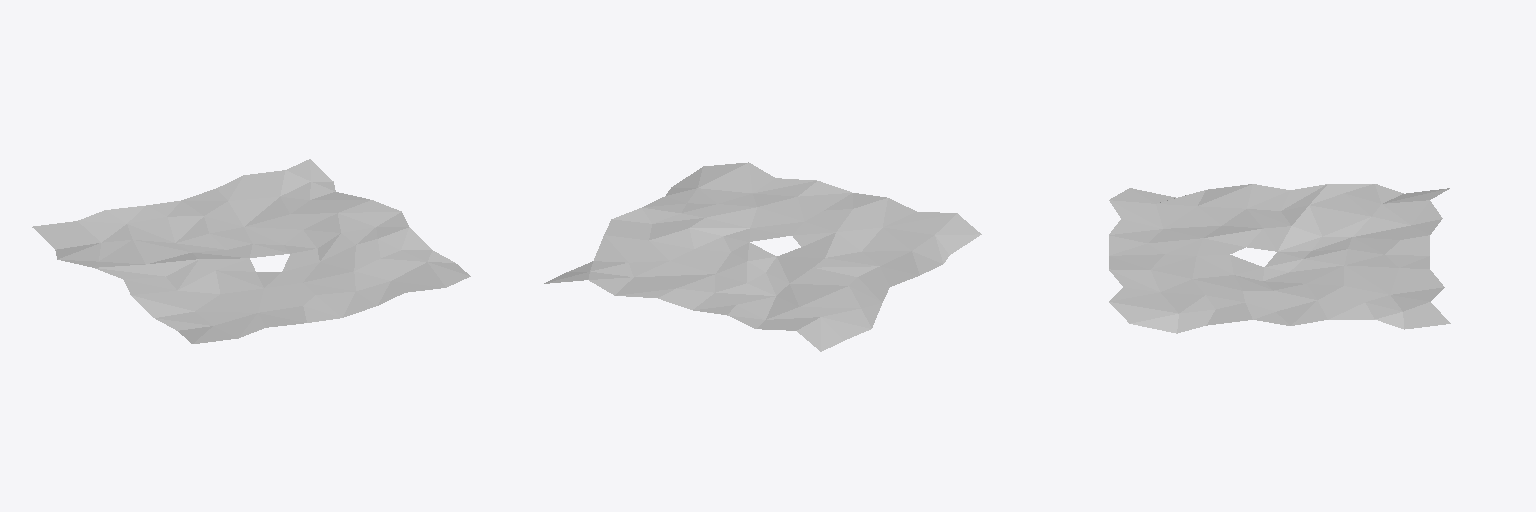
File: Sandtileimposter.obj
The picture shows the model from 3 angles: view 1: azimuth 30°, elevation 25°; view 2: azimuth 150°, elevation 25°; view 3: azimuth 270°, elevation 25°; orthographic projection.
Parts seen in each view (by area): view 1: Sandtileimposter_Sand_Tile_01; view 2: Sandtileimposter_Sand_Tile_01; view 3: Sandtileimposter_Sand_Tile_01.
Boxes of the visible parts, box(x1,y1,x2,y2) form: Sandtileimposter_Sand_Tile_01: box(32, 159, 470, 343); Sandtileimposter_Sand_Tile_01: box(544, 162, 981, 351); Sandtileimposter_Sand_Tile_01: box(1109, 184, 1450, 333).
Bounding box in the file's own units: 166 × 5.63 × 162.